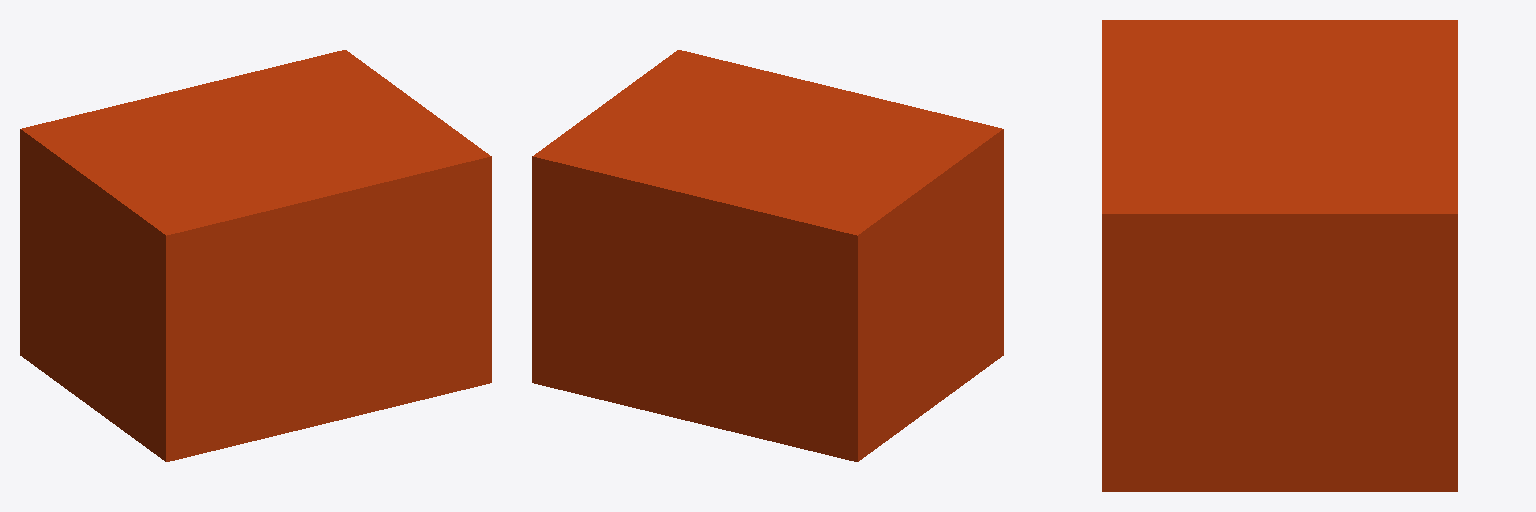
robot.urdf — random_box:
<?xml version='1.0' encoding='UTF-8'?>
<robot name="random_box">
  <link name="box">

    <inertial>
      <mass value="0.3"/>
      <origin xyz="0 0 0" rpy="0 0 0"/>
      <inertia ixx="0.1" ixy="0.1" ixz="0.1" iyy="0.1" iyz="0.1" izz="0.1"/>
    </inertial>

    <visual>
      <geometry>
        <box size="0.9 0.7 0.6"/>
      </geometry>
      <material name="color">
        <color rgba="0.8 0.3 0.1 1"/>
      </material>
    </visual>
    <collision>
      <geometry>
        <box size="0.9 0.7 0.6"/>
      </geometry>

      <surface>
        <friction>
          <ode>
            <mu>100000000.0</mu>
            <mu2>100000000.0</mu2>
          </ode>
        </friction>
        <contact>
          <ode>
            <min_depth>0.003</min_depth>
          </ode>
        </contact>
      </surface>

    </collision>

  </link>
</robot>

--- Facts derived from the render (not from the file) ---
Views: 3 orthographic renders of the robot side by side, from view 1: azimuth 30°, elevation 25°; view 2: azimuth 150°, elevation 25°; view 3: azimuth 270°, elevation 25°.
Model random_box with 1 links and 0 joints (none), rooted at box, posed all joints at 0.
Visible links, largest first — view 1: box; view 2: box; view 3: box.
Boxes of the visible links, box(x1,y1,x2,y2) form: box: box(20, 50, 491, 461); box: box(532, 50, 1003, 461); box: box(1102, 20, 1457, 491).
Size in the robot's own frame: 0.9 by 0.7 by 0.6 metres.
Geometry: primitives only (box / cylinder / sphere), no mesh files.